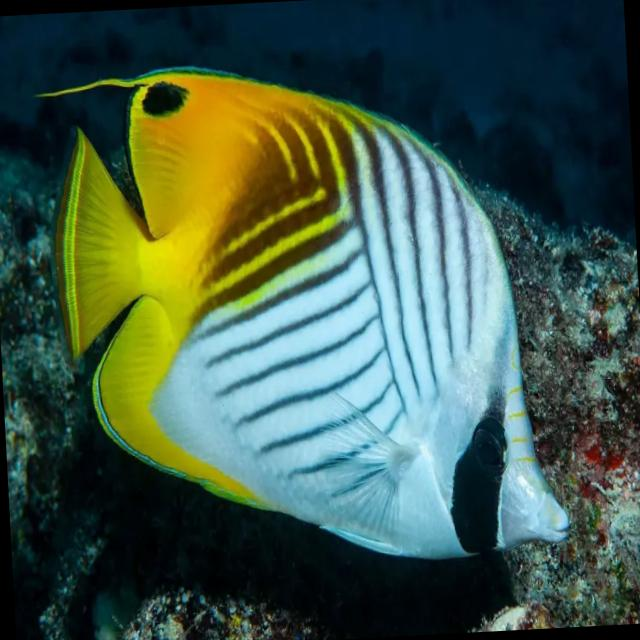ButterflyFish: (40, 46, 571, 583)
